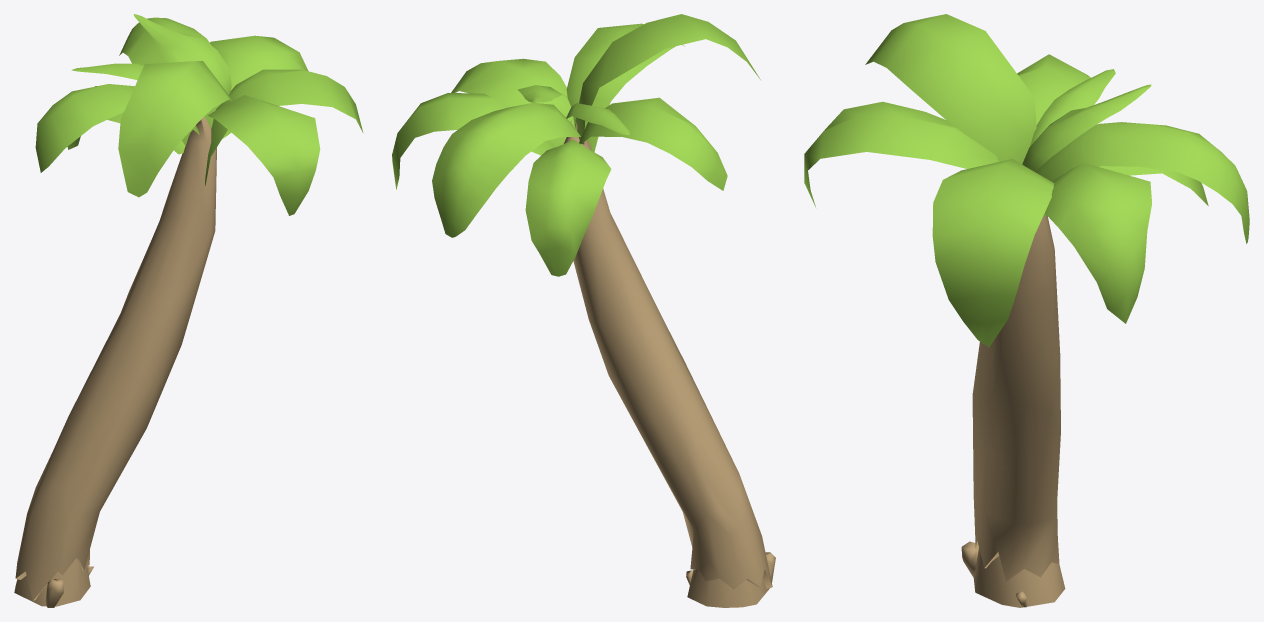
File: YeZiShu.gltf
The picture shows the model from 3 angles, left to right: view 1: azimuth 30°, elevation 25°; view 2: azimuth 150°, elevation 25°; view 3: azimuth 270°, elevation 25°; orthographic projection. The views are drawn at different scales.
Visible parts, largest first — view 1: YeZiShu; view 2: YeZiShu; view 3: YeZiShu.
Part boxes in pixels (x1,y1,x2,y2): YeZiShu: (14, 14, 363, 607); YeZiShu: (392, 14, 775, 607); YeZiShu: (804, 14, 1249, 607).
Bounding box in the file's own units: 2.54 × 3.92 × 2.58.
